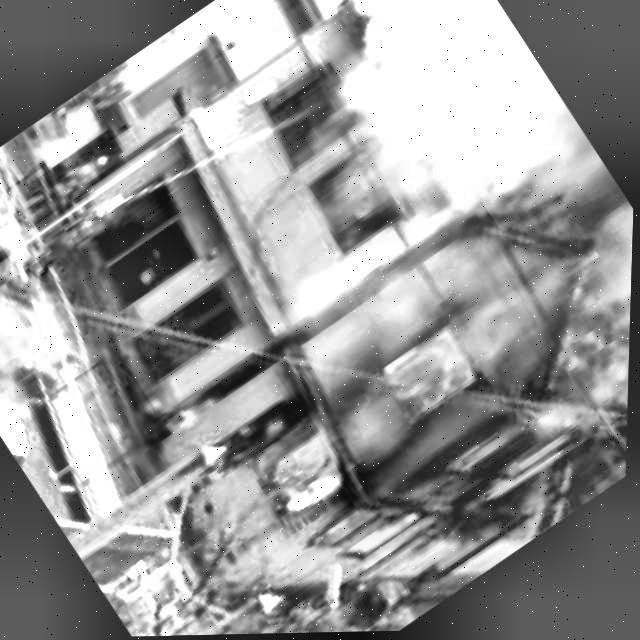Fire: (161, 211, 632, 637), (298, 143, 412, 260)
Smoke: (319, 0, 640, 413)
